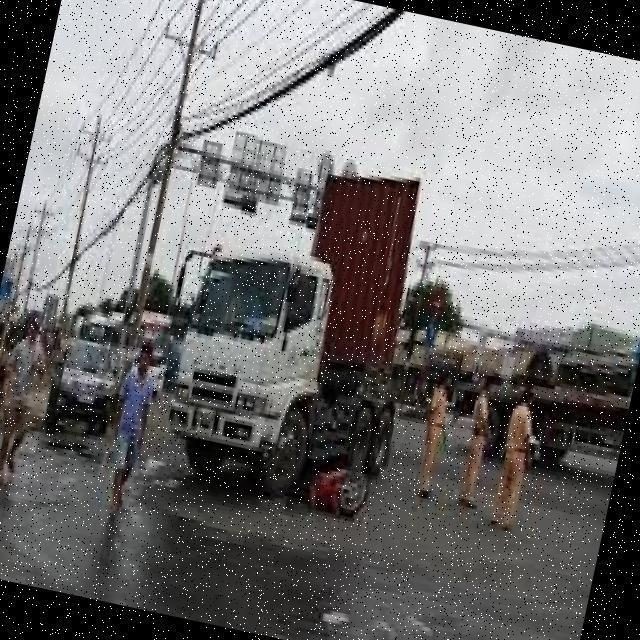accident: (285, 432, 383, 531)
